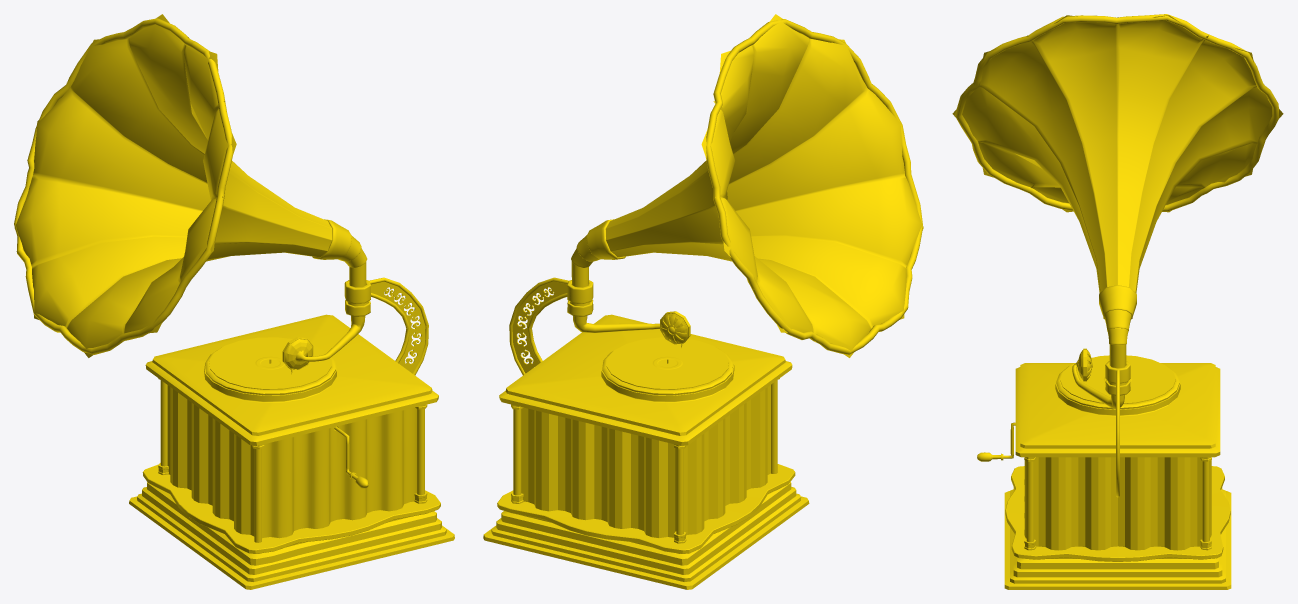
File: liushengji.obj
The picture shows the model from 3 angles, left to right: view 1: azimuth 30°, elevation 25°; view 2: azimuth 150°, elevation 25°; view 3: azimuth 270°, elevation 25°; orthographic projection. The views are drawn at different scales.
Parts seen in each view (by area): view 1: group62 nurbsToPoly3, group62 _Liushengji:pCube2, group62 _Liushengji:pCube1, group62 _Liushengji:polySurface10, group62 _Liushengji:polySurface11, group62 nurbsToPoly14, group62 _Liushengji:cd, group62 _Liushengji:bashou2:polySurface19, group62 _Liushengji:pCylinder14, group62 _Liushengji:pPipe1, group62 nurbsToPoly8, group62 nurbsToPoly9 (+5 smaller); view 2: group62 nurbsToPoly3, group62 _Liushengji:pCube2, group62 _Liushengji:polySurface13, group62 _Liushengji:pCube1, group62 _Liushengji:polySurface11, group62 nurbsToPoly14, group62 _Liushengji:cd, group62 _Liushengji:bashou2:polySurface19, group62 _Liushengji:pCylinder14, group62 _Liushengji:pPipe1, group62 nurbsToPoly8, group62 nurbsToPoly9 (+5 smaller); view 3: group62 nurbsToPoly3, group62 _Liushengji:polySurface12, group62 _Liushengji:pCube1, group62 _Liushengji:pCube2, group62 nurbsToPoly14, group62 _Liushengji:cd, group62 _Liushengji:pCylinder14, group62 nurbsToPoly4, group62 _Liushengji:pPipe1, group62 nurbsToPoly8, group62 _Liushengji:pCylinder3, group62 _Liushengji:pCylinder4 (+3 smaller).
Boxes of the visible parts, x1=… form: group62 nurbsToPoly3: x1=14, y1=14, x2=332, y2=357; group62 _Liushengji:pCube2: x1=129, y1=464, x2=454, y2=589; group62 _Liushengji:pCube1: x1=145, y1=314, x2=438, y2=445; group62 _Liushengji:polySurface10: x1=262, y1=407, x2=416, y2=538; group62 _Liushengji:polySurface11: x1=167, y1=385, x2=254, y2=536; group62 nurbsToPoly14: x1=14, y1=18, x2=232, y2=354; group62 _Liushengji:cd: x1=209, y1=337, x2=331, y2=389; group62 _Liushengji:bashou2:polySurface19: x1=370, y1=281, x2=426, y2=373; group62 _Liushengji:pCylinder14: x1=205, y1=347, x2=335, y2=402; group62 _Liushengji:pPipe1: x1=204, y1=361, x2=336, y2=401; group62 nurbsToPoly8: x1=344, y1=280, x2=370, y2=316; group62 nurbsToPoly9: x1=295, y1=315, x2=365, y2=362; group62 nurbsToPoly3: x1=605, y1=14, x2=923, y2=357; group62 _Liushengji:pCube2: x1=483, y1=464, x2=809, y2=589; group62 _Liushengji:polySurface13: x1=521, y1=407, x2=676, y2=537; group62 _Liushengji:pCube1: x1=499, y1=314, x2=792, y2=445; group62 _Liushengji:polySurface11: x1=684, y1=385, x2=770, y2=535; group62 nurbsToPoly14: x1=706, y1=19, x2=923, y2=354; group62 _Liushengji:cd: x1=606, y1=337, x2=728, y2=389; group62 _Liushengji:bashou2:polySurface19: x1=512, y1=281, x2=567, y2=373; group62 _Liushengji:pCylinder14: x1=602, y1=347, x2=733, y2=402; group62 _Liushengji:pPipe1: x1=601, y1=361, x2=734, y2=401; group62 nurbsToPoly8: x1=567, y1=280, x2=593, y2=316; group62 nurbsToPoly9: x1=573, y1=316, x2=659, y2=332; group62 nurbsToPoly3: x1=952, y1=15, x2=1283, y2=292; group62 _Liushengji:polySurface12: x1=1034, y1=457, x2=1202, y2=550; group62 _Liushengji:pCube1: x1=1015, y1=363, x2=1220, y2=457; group62 _Liushengji:pCube2: x1=1004, y1=466, x2=1231, y2=589; group62 nurbsToPoly14: x1=955, y1=14, x2=1279, y2=211; group62 _Liushengji:cd: x1=1060, y1=355, x2=1175, y2=403; group62 _Liushengji:pCylinder14: x1=1056, y1=366, x2=1179, y2=416; group62 nurbsToPoly4: x1=1099, y1=285, x2=1136, y2=319; group62 _Liushengji:pPipe1: x1=1055, y1=375, x2=1180, y2=415; group62 nurbsToPoly8: x1=1105, y1=361, x2=1130, y2=395; group62 _Liushengji:pCylinder3: x1=1026, y1=461, x2=1033, y2=542; group62 _Liushengji:pCylinder4: x1=1202, y1=461, x2=1209, y2=541.
Size of the model in its own units: 19.87 by 26.3 by 16.44.
